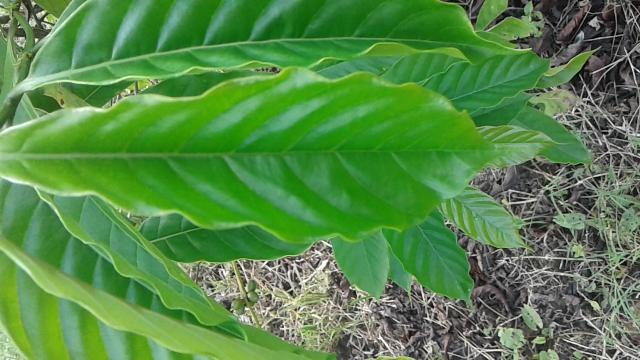healthy: (0, 62, 538, 245)
